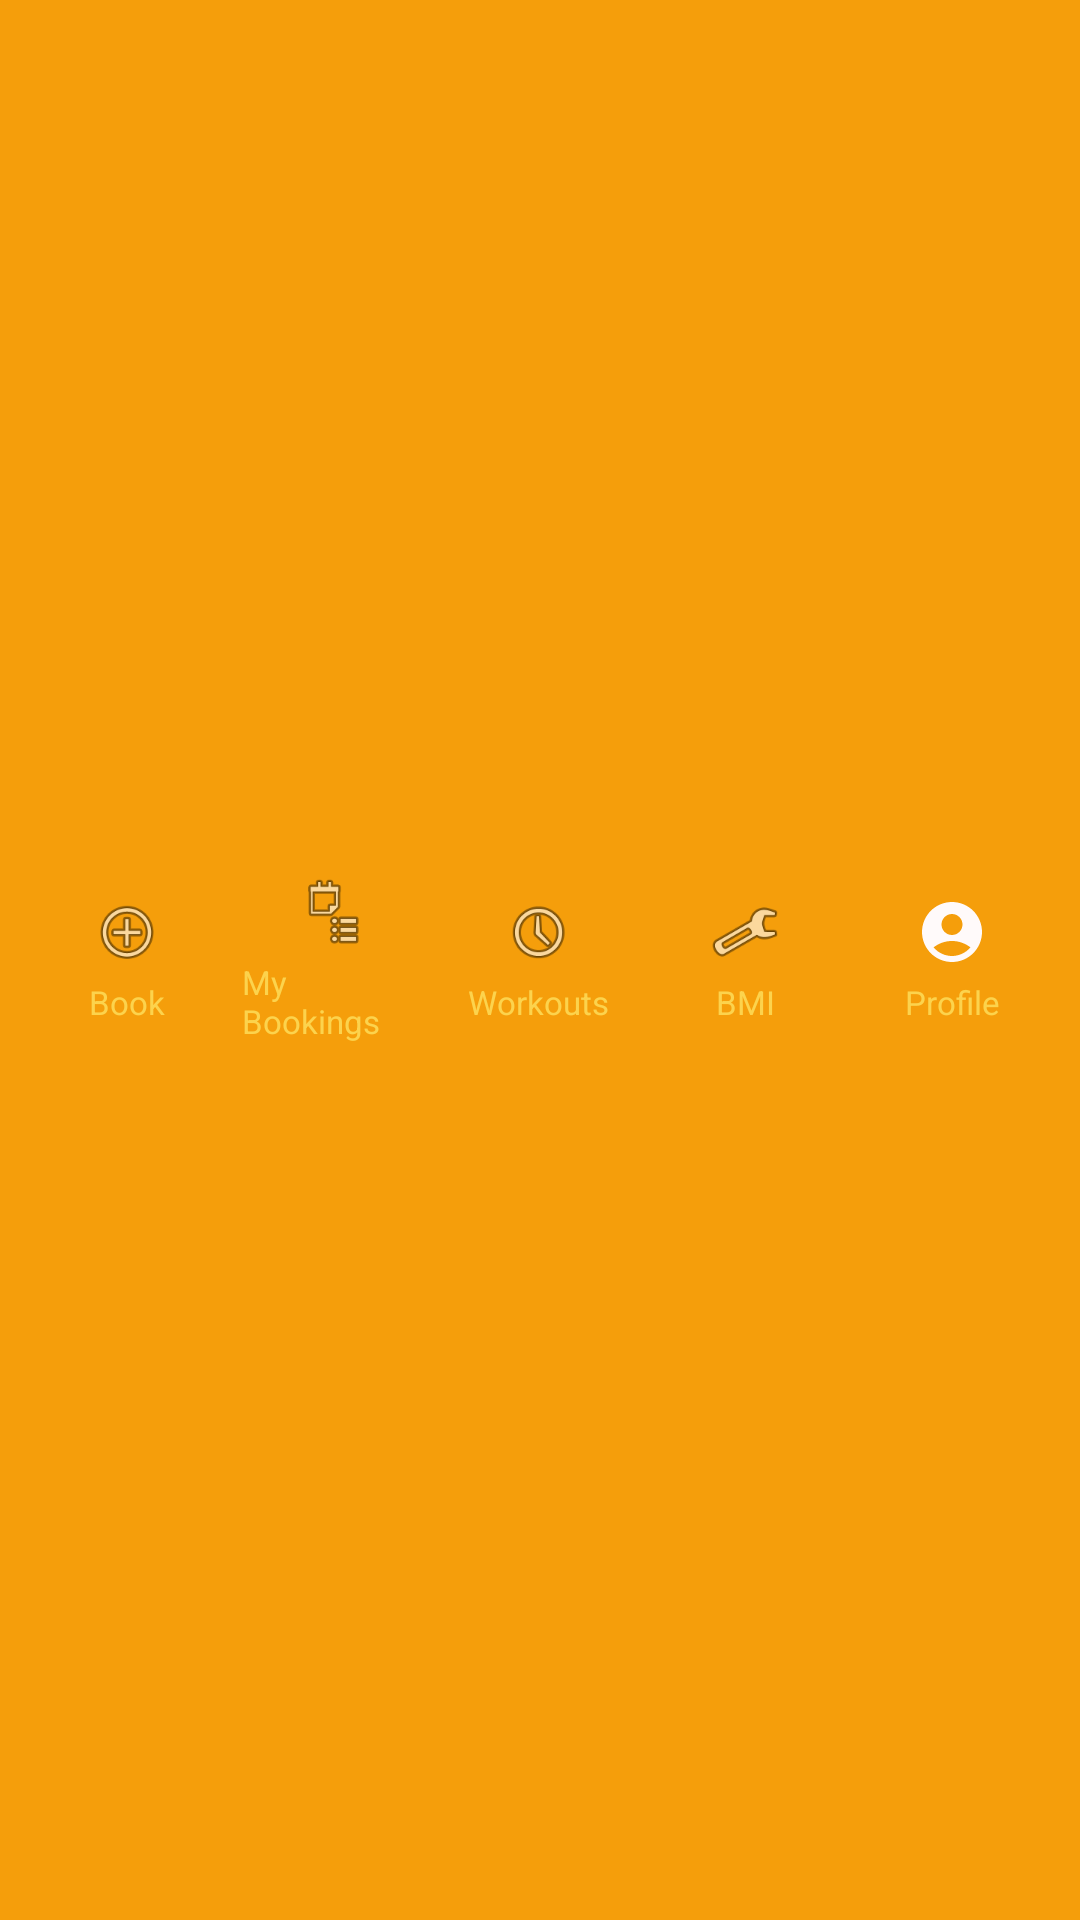

Point at icon controls on the screen. Image size 1080*1920, points as point (x, y).
account circle: point (952, 932)
add: point (127, 932)
agenda: point (333, 912)
manage: point (744, 932)
recent history: point (538, 932)
